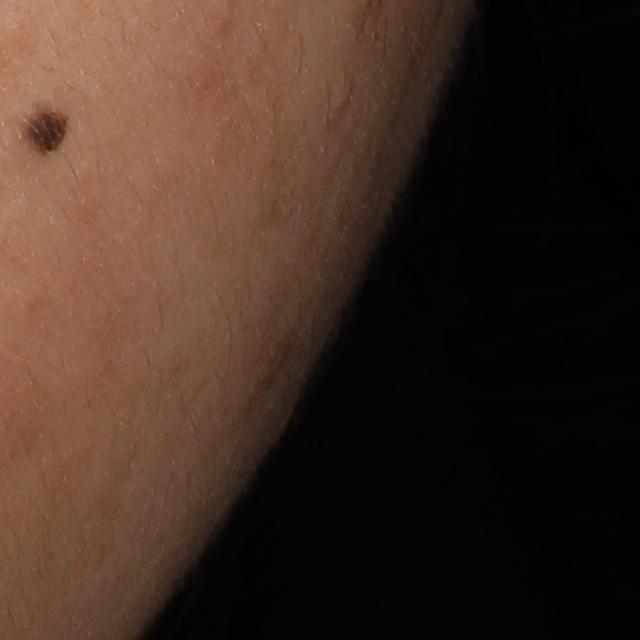nevus: (13, 88, 73, 158)
